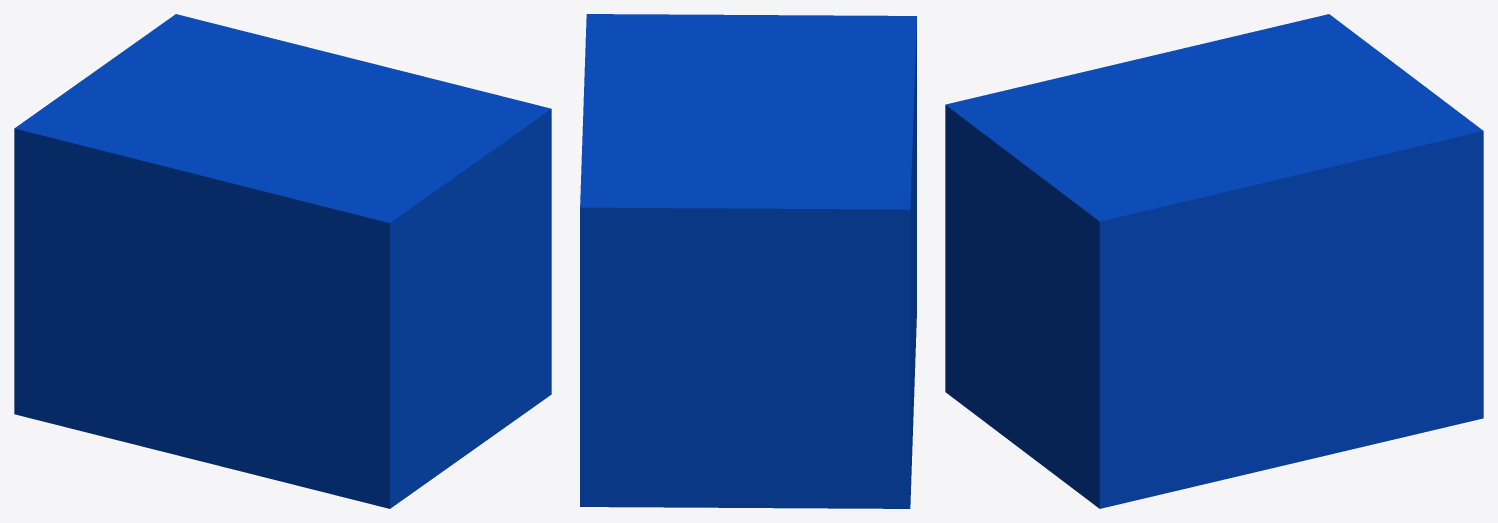
Rendered from LLEG_LINK1_mesh.dae.
3 views of the same model, side by side, from view 1: azimuth 30°, elevation 25°; view 2: azimuth 150°, elevation 25°; view 3: azimuth 270°, elevation 25° (orthographic). The views are drawn at different scales.
Visible parts, largest first — view 1: LLEG_LINK1; view 2: LLEG_LINK1; view 3: LLEG_LINK1.
Boxes of the visible parts, x1,y1,x2,y2 form: LLEG_LINK1: (14, 14, 551, 508); LLEG_LINK1: (580, 14, 916, 508); LLEG_LINK1: (945, 14, 1483, 508).
Size of the model in its own units: 0.0775 by 0.05 by 0.0849.
